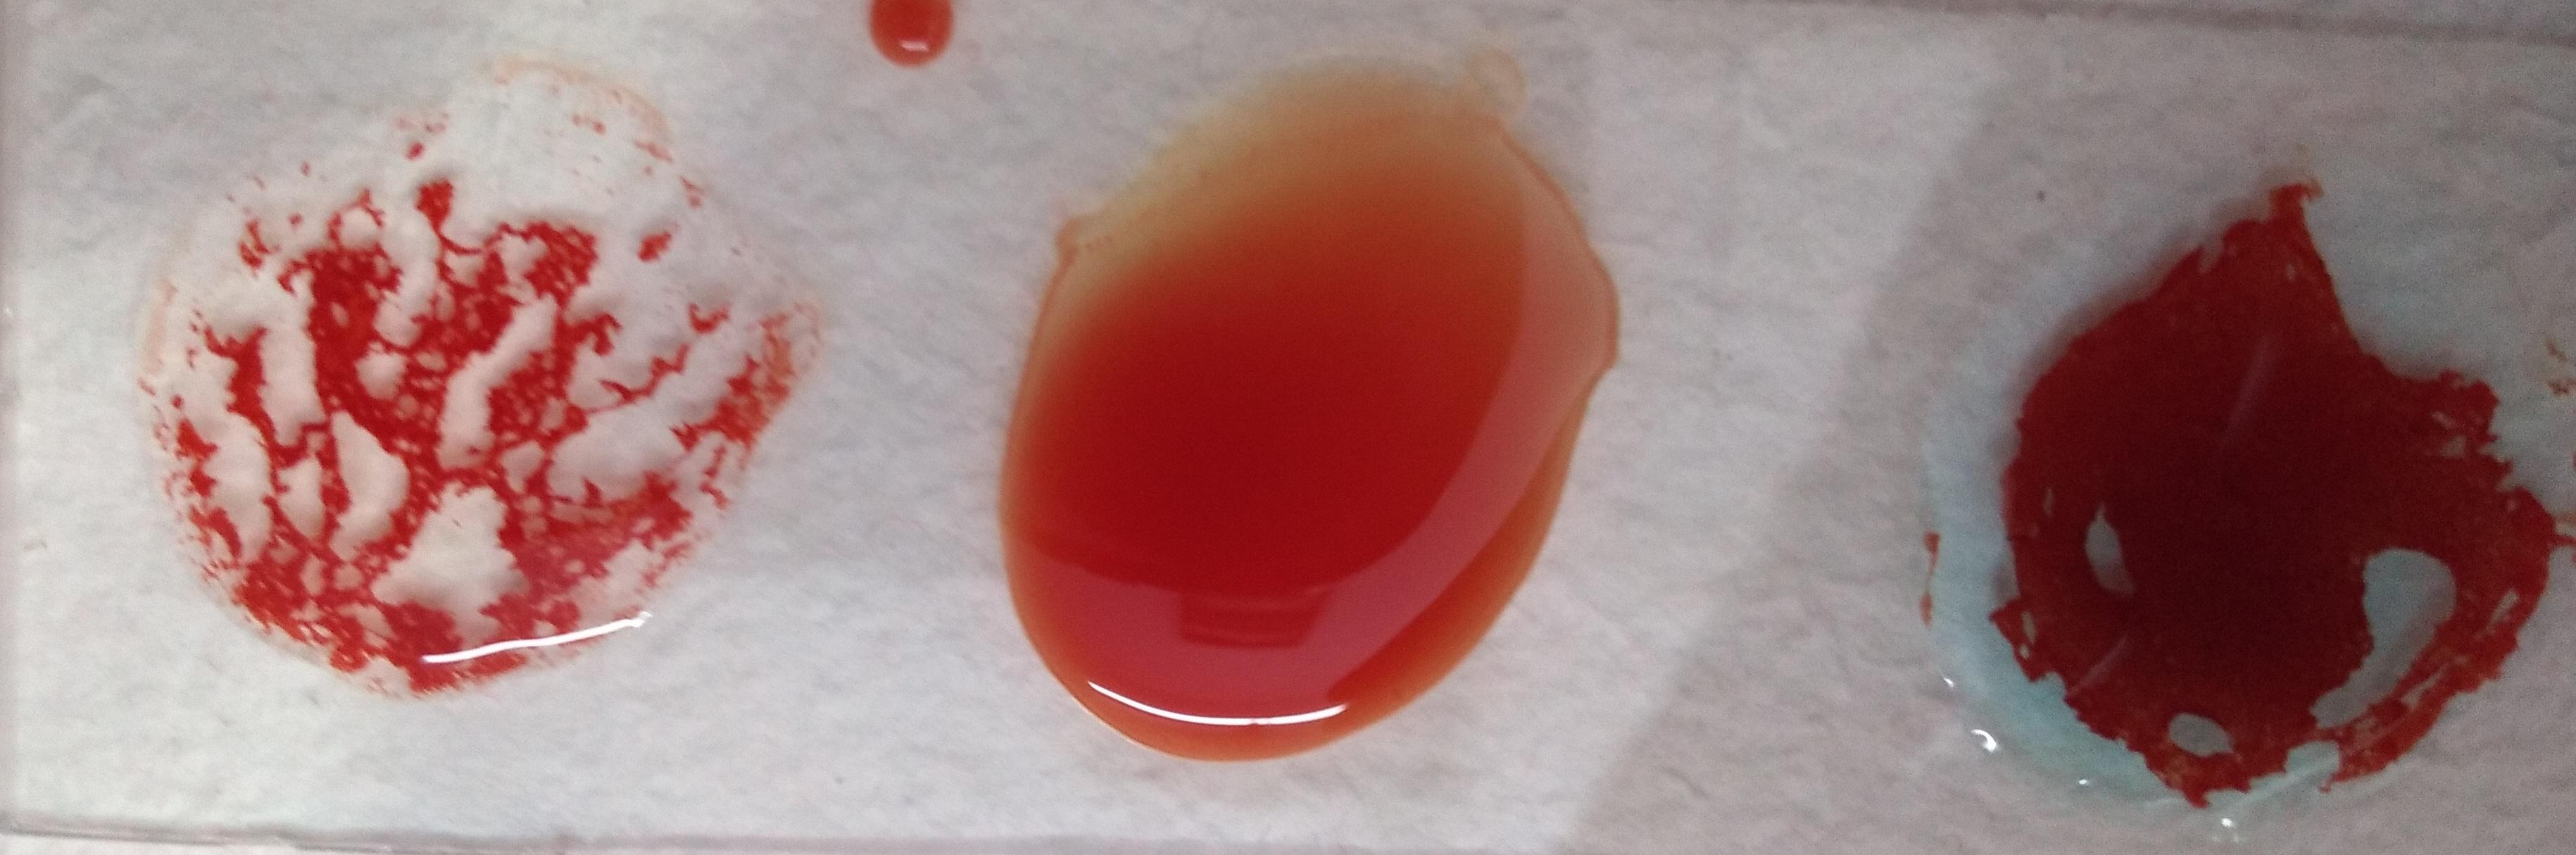A: (1919, 204, 2558, 845)
D: (156, 99, 782, 691)
